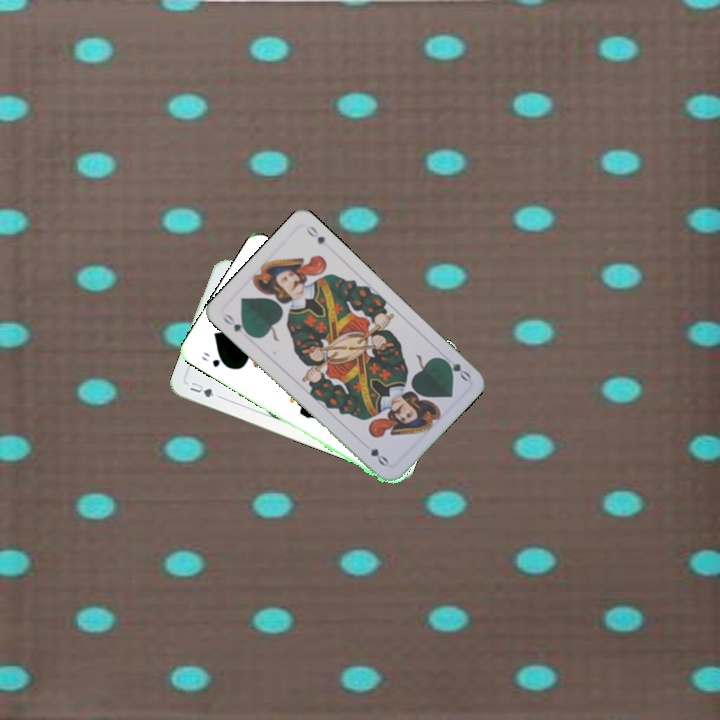GO: (437, 351, 473, 384), (218, 309, 254, 338), (198, 348, 232, 371)
GU: (186, 378, 216, 400)
